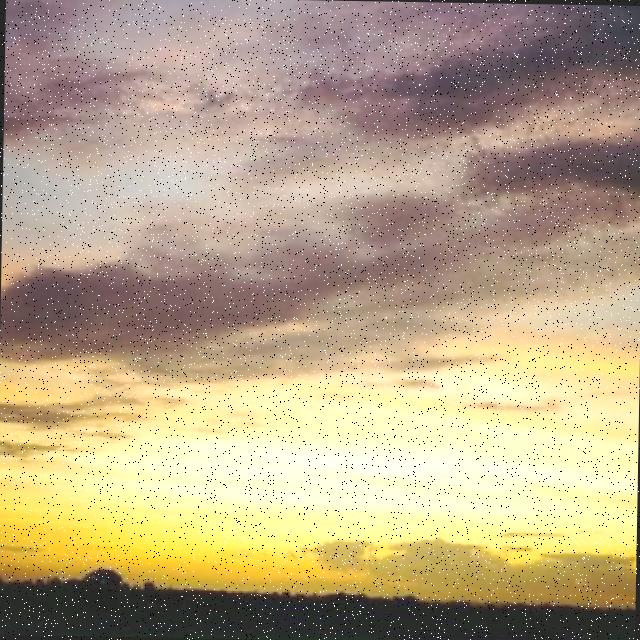Cs: (1, 26, 640, 537)
